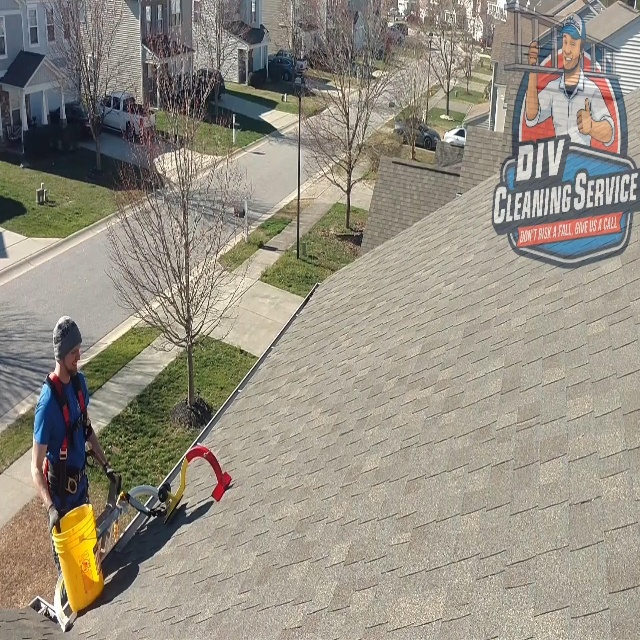Arnes_seguridad: (40, 361, 93, 512)
